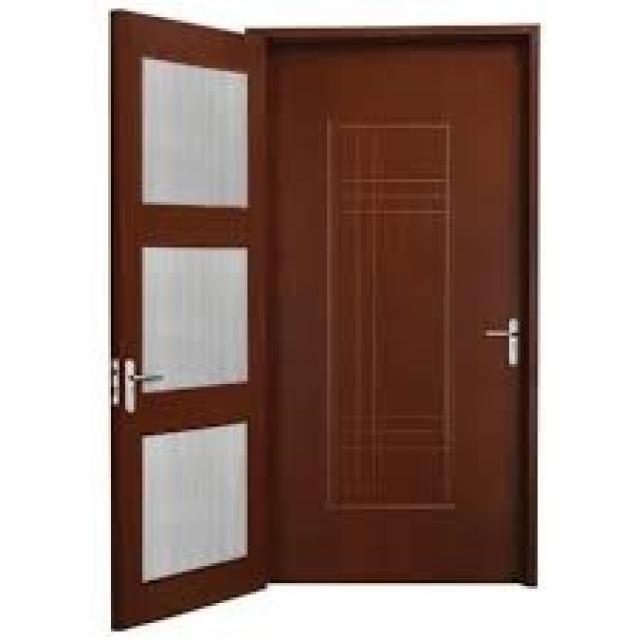door: (104, 4, 566, 626)
